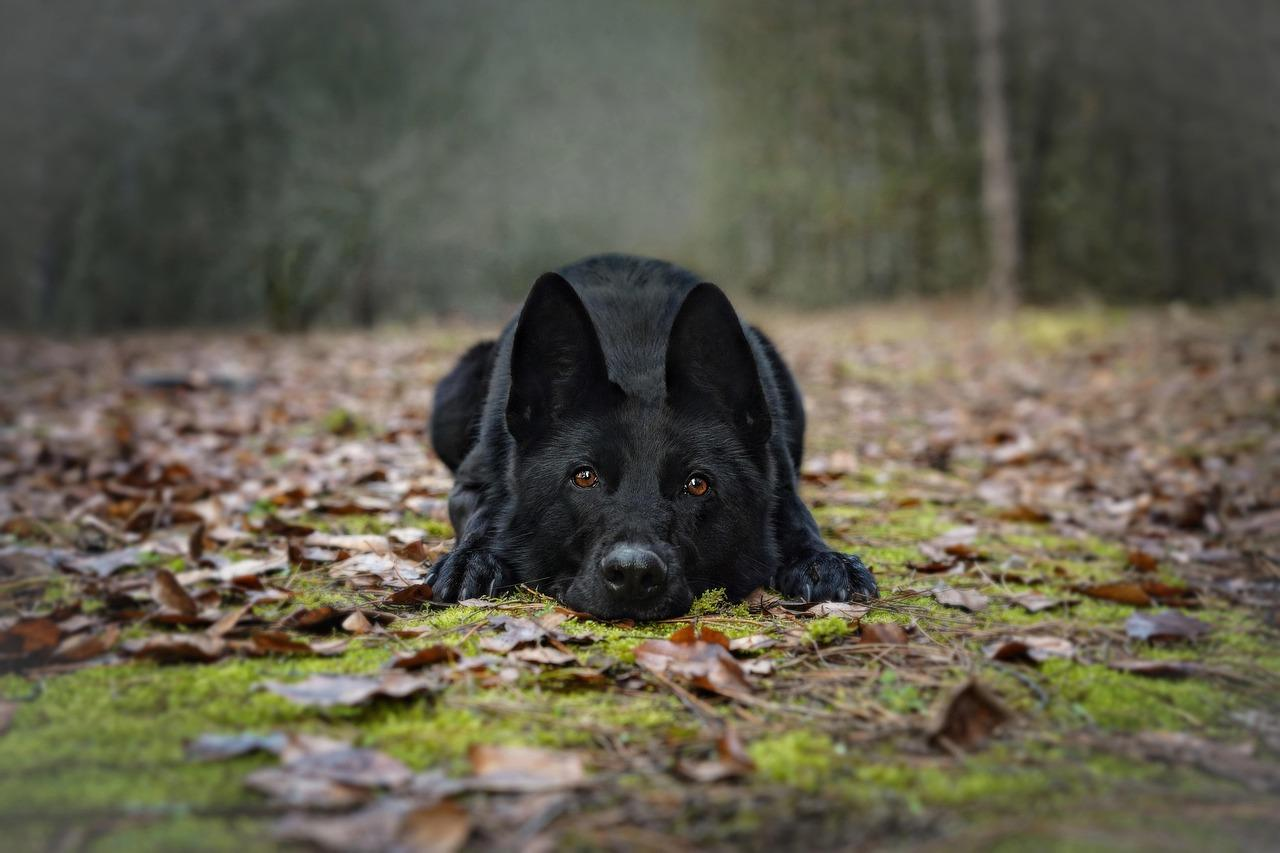german_shepherd: (476, 227, 777, 651)
